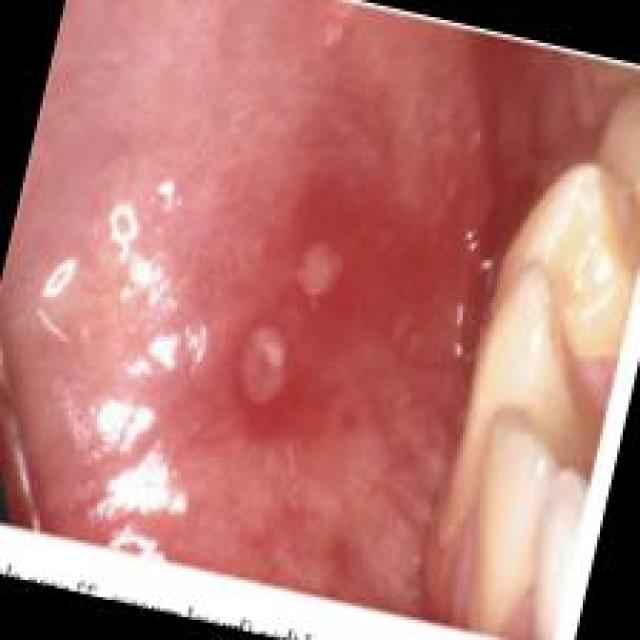processing_area: (3, 2, 619, 617)
ulcer-detection: (221, 192, 392, 456)
